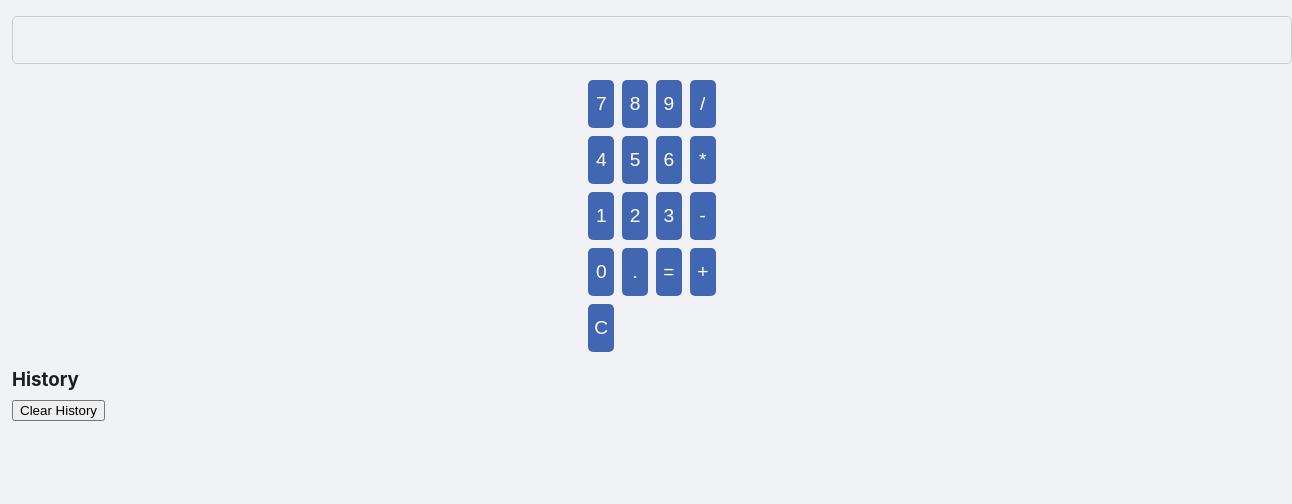
Calculator › performs basic calculations
Click the button "7" at (601, 104), box [588,80,614,128]
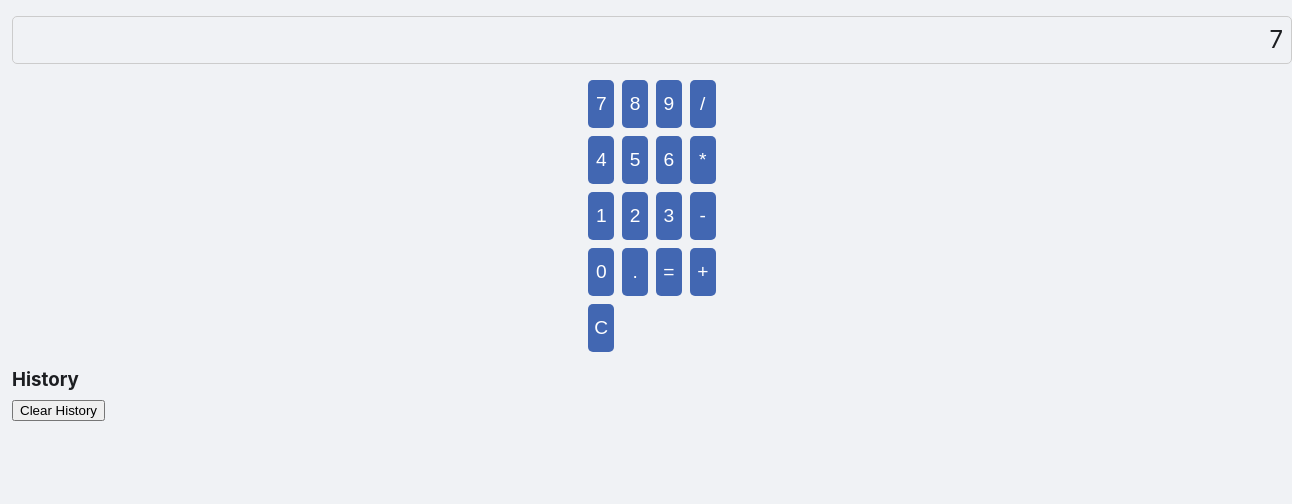
Click the button "+" at (703, 272), box [690,248,716,296]
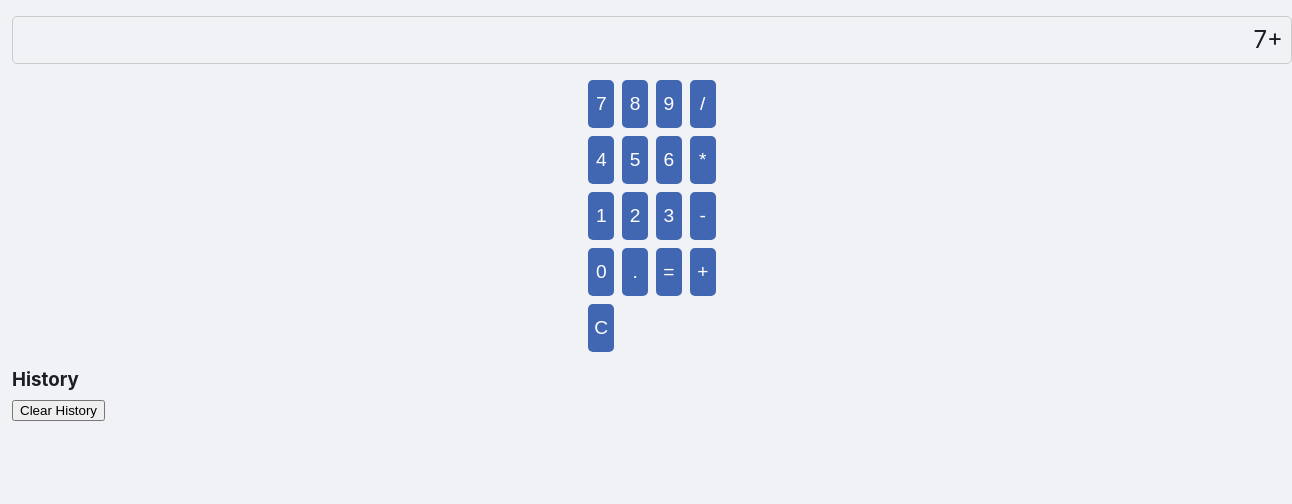
Click the button "3" at (669, 216), box [656,192,682,240]
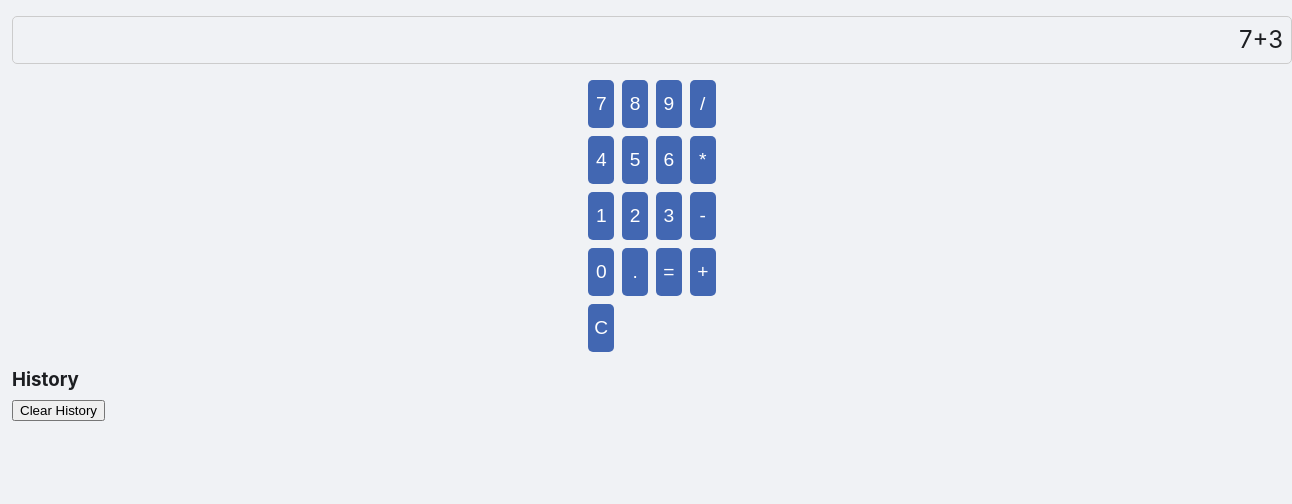
Click the button "=" at (669, 272), box [656,248,682,296]
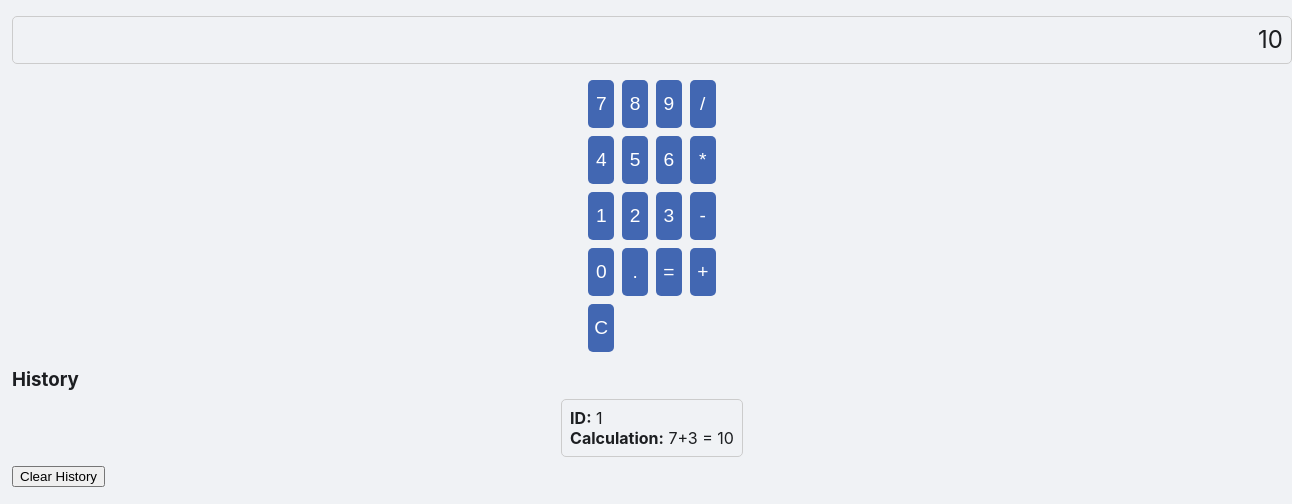
Expected: the text "10" is shown, [12,16,1291,64]
